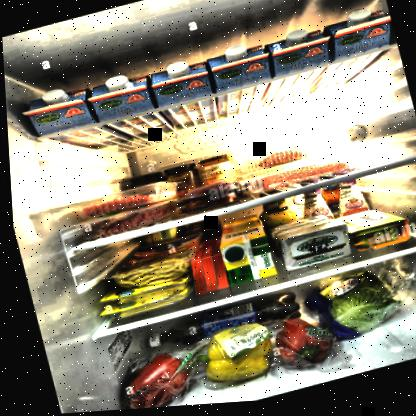butter: (269, 216, 348, 274)
ground_beef: (79, 188, 155, 219), (260, 163, 339, 192), (93, 207, 164, 238)
lettuce: (317, 274, 394, 342)
milk: (24, 86, 94, 137), (324, 14, 396, 63), (85, 74, 154, 124), (204, 47, 271, 94), (266, 32, 330, 79), (147, 62, 212, 108)
pickles: (111, 261, 183, 294)
red_bell_pepper: (111, 351, 194, 410), (267, 315, 332, 377)
yellow_bell_pepper: (190, 327, 271, 391)
